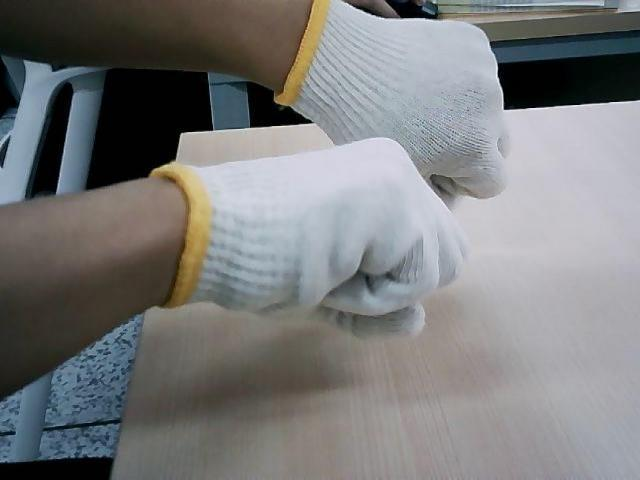Hand-in-Glove: (160, 136, 466, 340), (278, 0, 507, 133)
